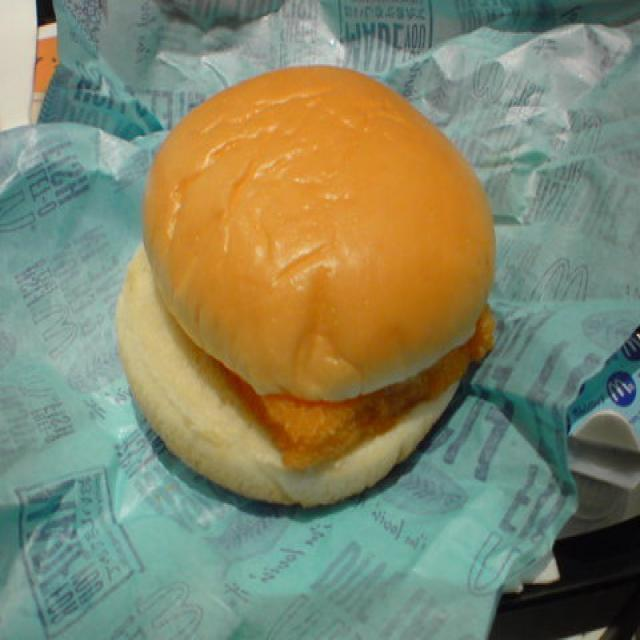Hamburger: (114, 58, 508, 514)
